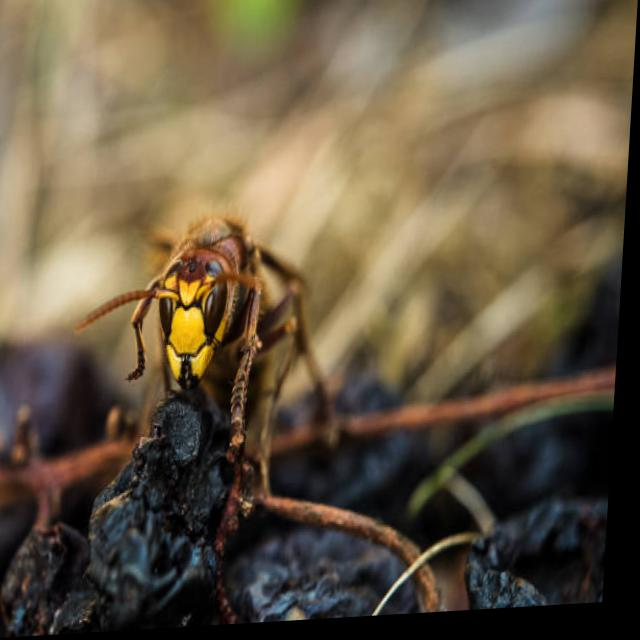Vespa Crabro: (50, 190, 335, 426)
